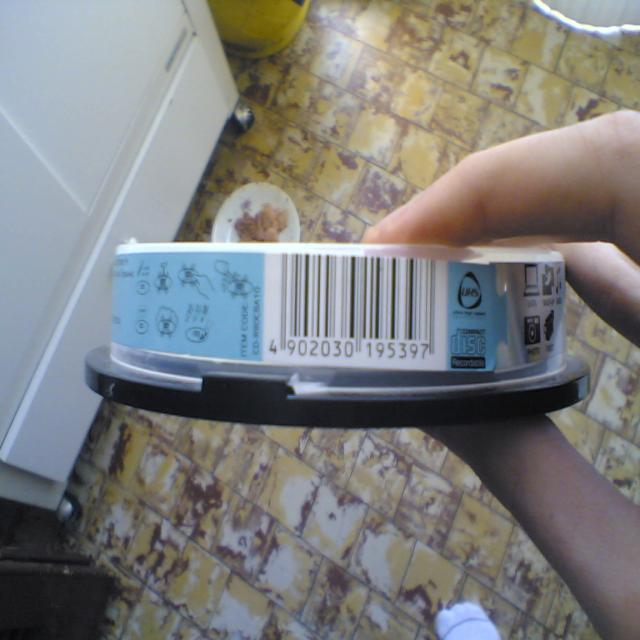barcode: (280, 253, 434, 353)
